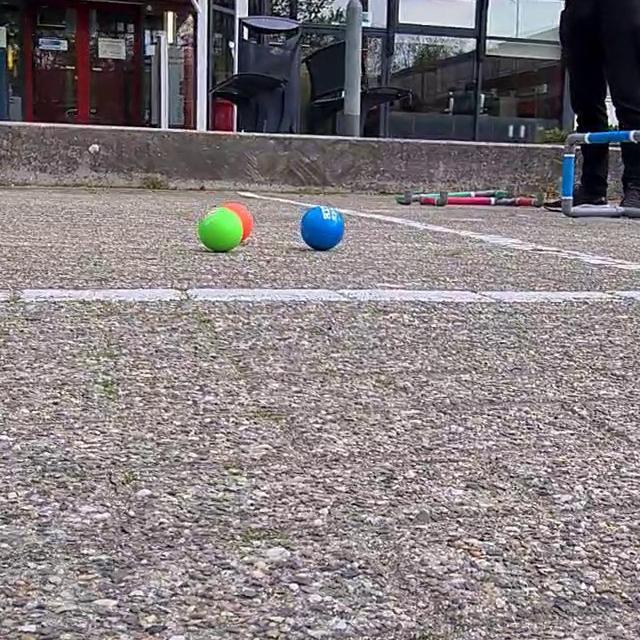ball: (194, 203, 247, 254), (300, 203, 347, 254)
